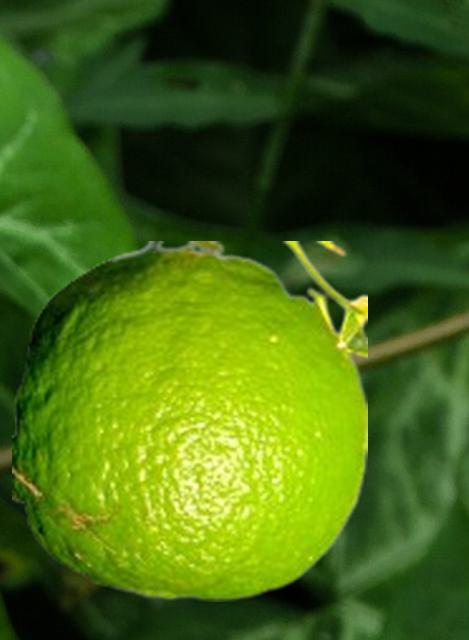dalandan: (12, 241, 366, 600)
